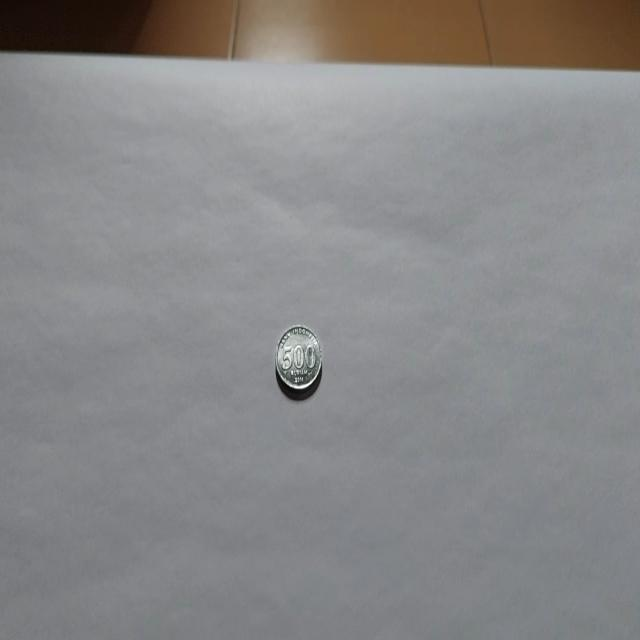lima ratus rupiah: (274, 322, 322, 400)
